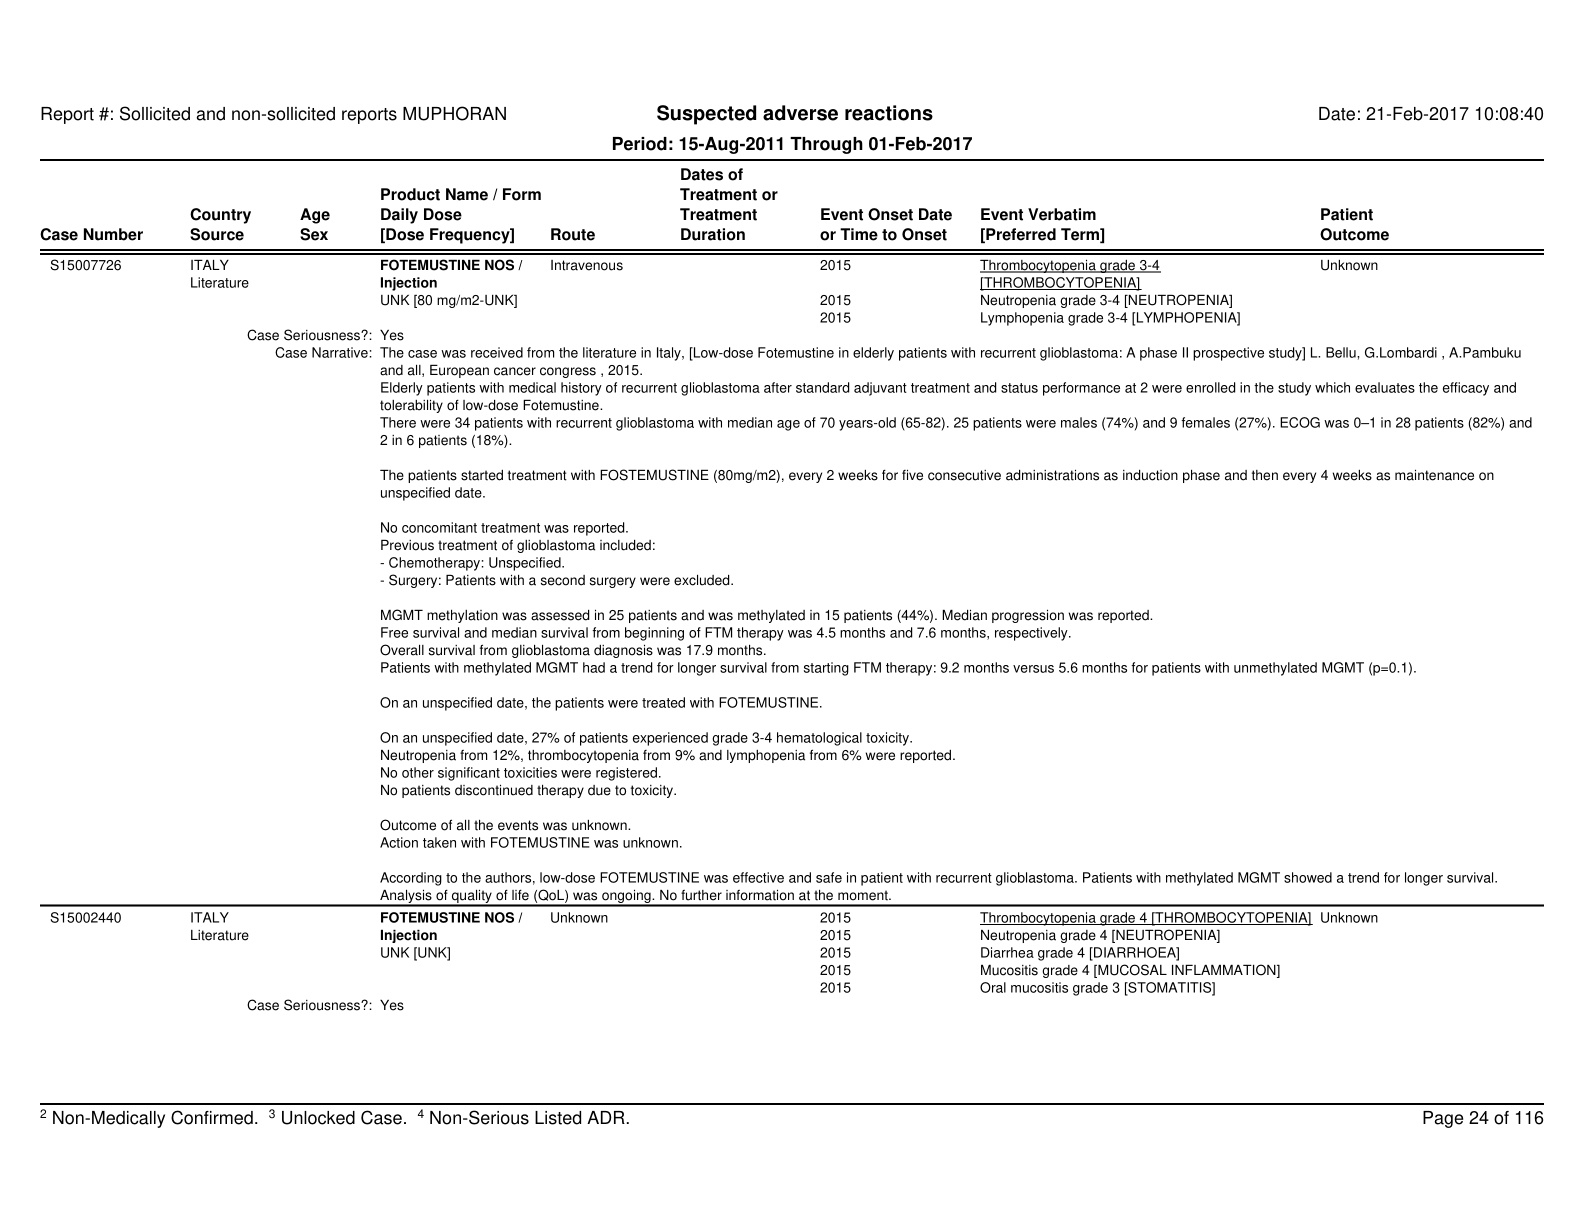partial_lined_merged_cells: (42, 156, 1545, 1020)
